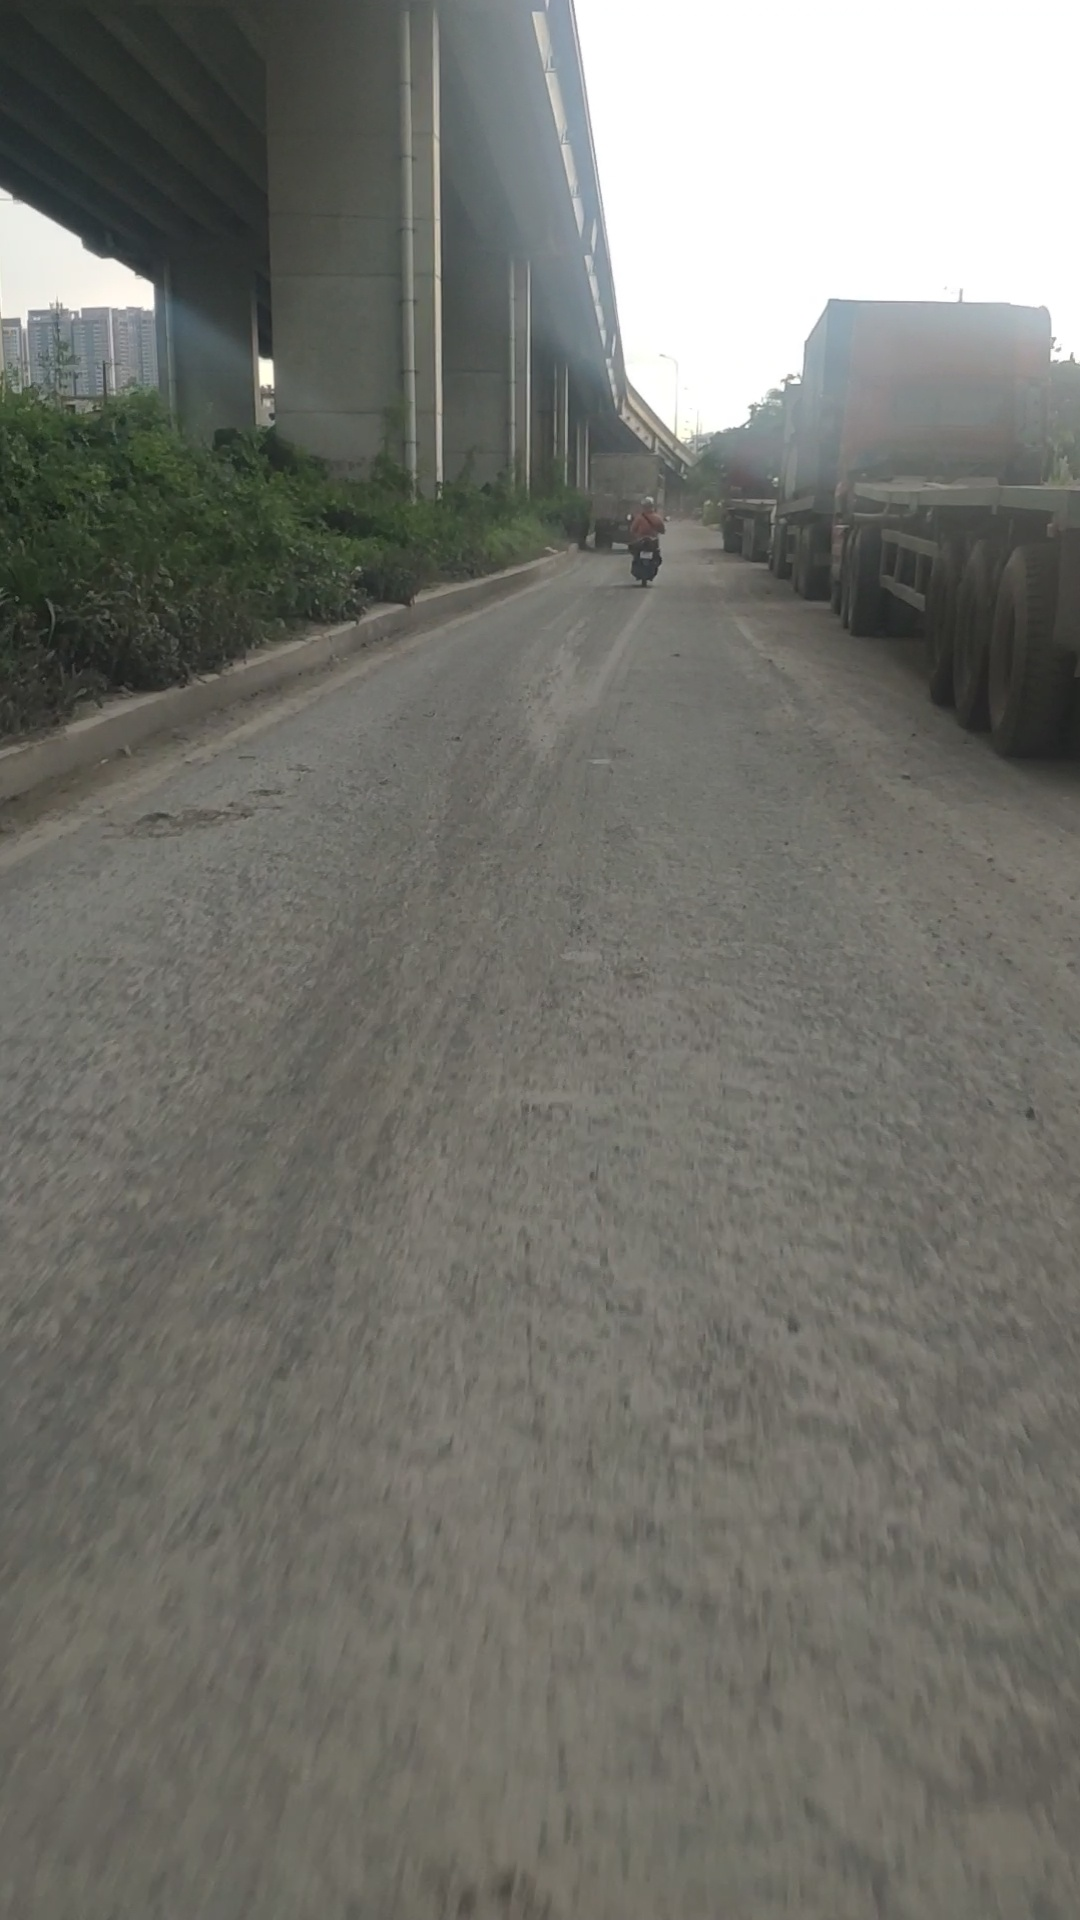hole: (116, 795, 262, 847)
